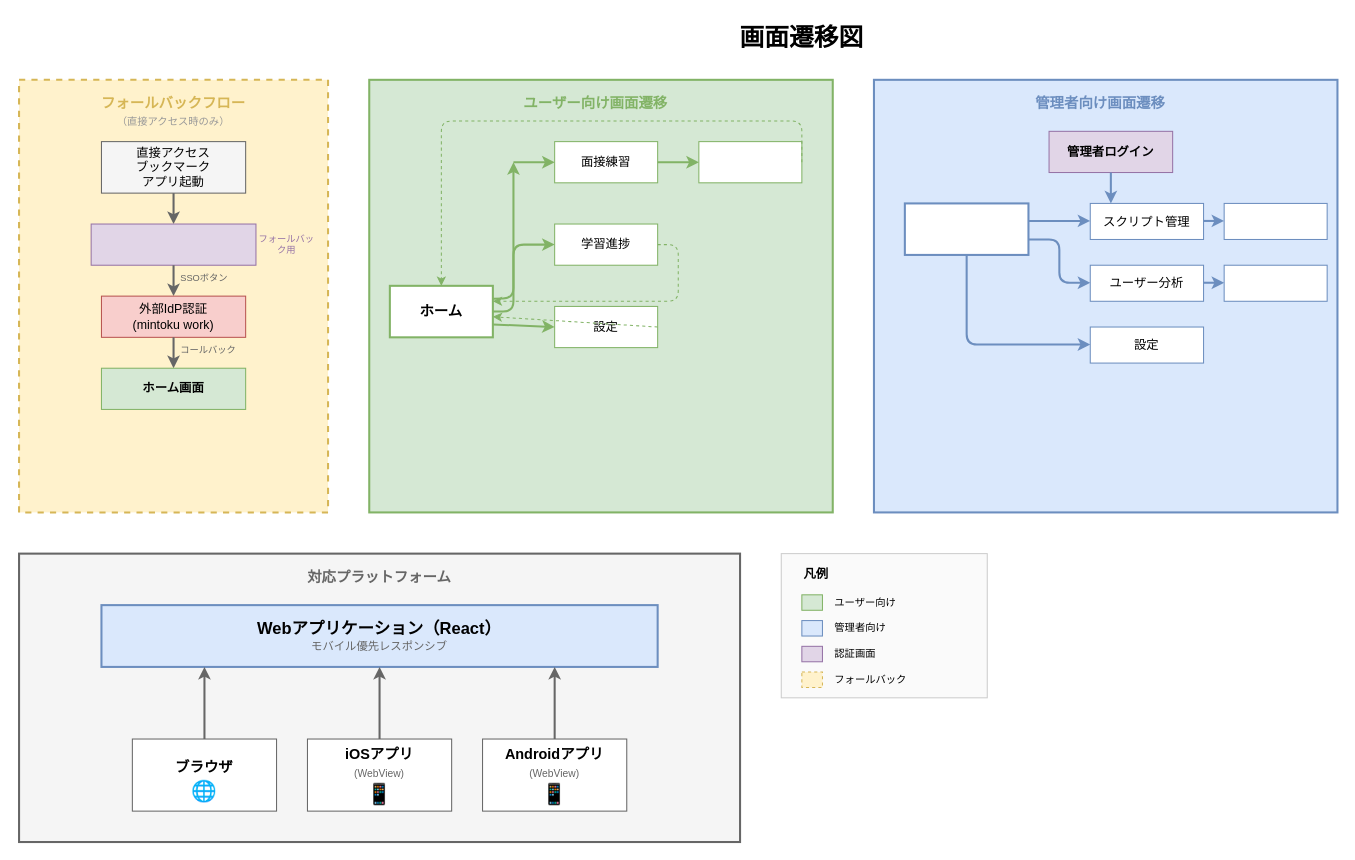
The diagram is 1355 pixels wide and 860 high, and some of its shapes have lost their labels. Each missing label, with the centre of its shape:
"SSOログイン画面" goes at point 173,244.
"スクリプト編集" goes at point 1275,220.
"ダッシュボード" goes at point 966,228.
"フィードバック" goes at point 750,162.
"ユーザー詳細" goes at point 1275,282.
